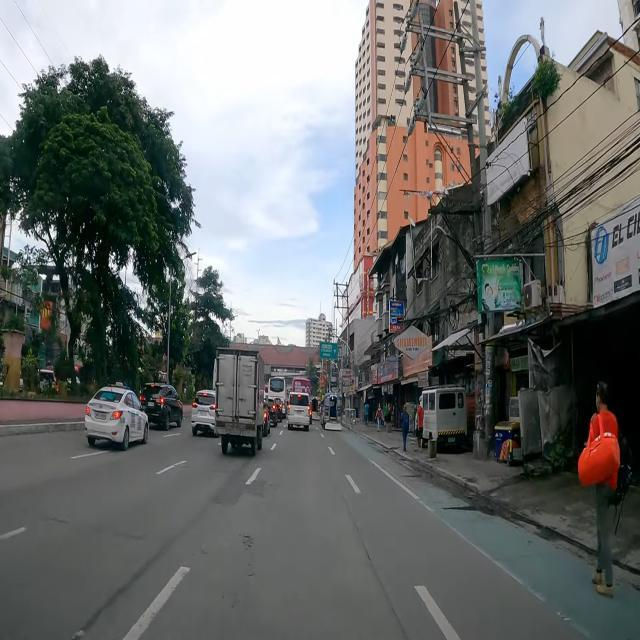bus: (268, 376, 288, 420), (290, 377, 310, 397)
car: (85, 382, 148, 449), (140, 383, 183, 431), (191, 390, 216, 438), (288, 392, 310, 431)
jeepney: (320, 394, 342, 431), (310, 396, 320, 420)
truck: (213, 348, 268, 458), (415, 384, 467, 452)
